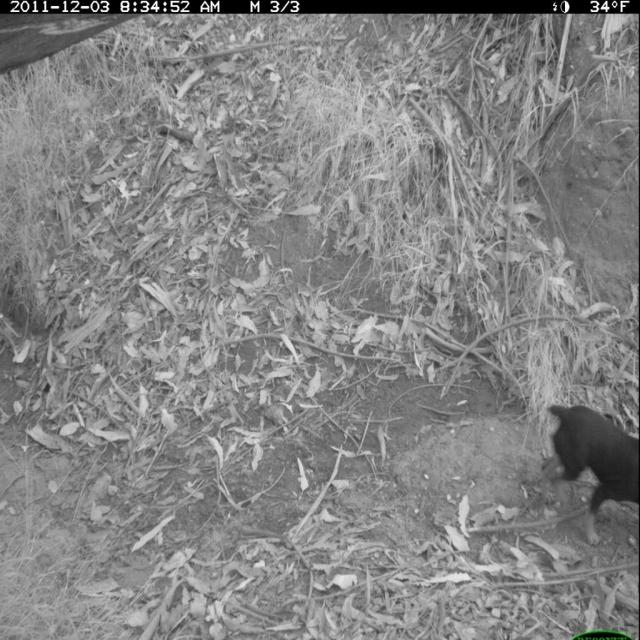dog: (532, 393, 639, 551)
